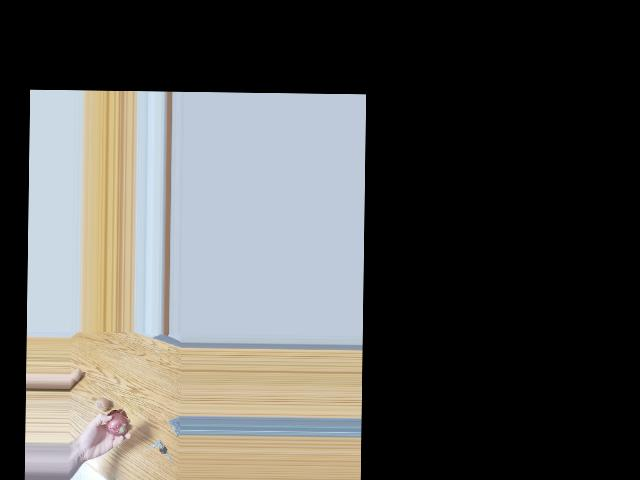onion: (107, 414, 129, 436)
